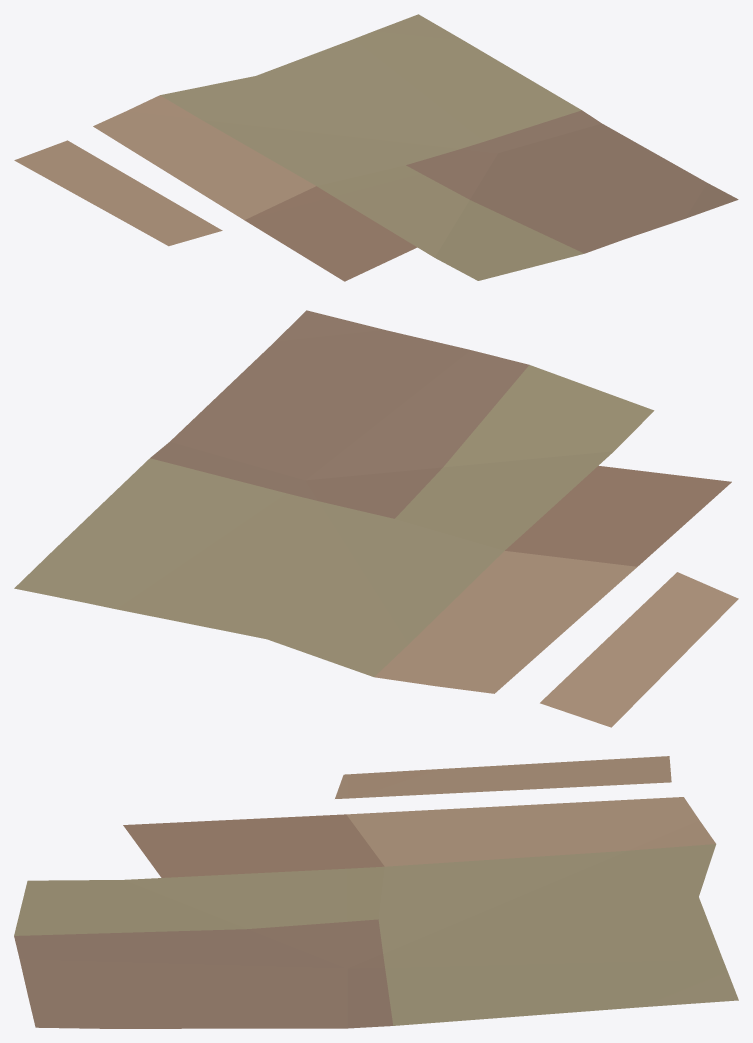
Rendered from farm_11_2_soil.glb.
3 views of the same model, one above another, from view 1: azimuth 30°, elevation 25°; view 2: azimuth 150°, elevation 25°; view 3: azimuth 270°, elevation 25° (orthographic). The views are drawn at different scales.
Parts seen in each view (by area): view 1: geometry_0; view 2: geometry_0; view 3: geometry_0.
Part boxes in pixels (x1,y1,x2,y2): geometry_0: (14, 14, 738, 281); geometry_0: (14, 310, 738, 727); geometry_0: (14, 756, 738, 1028).
Size of the model in its own units: 138 by 6.61 by 140.
